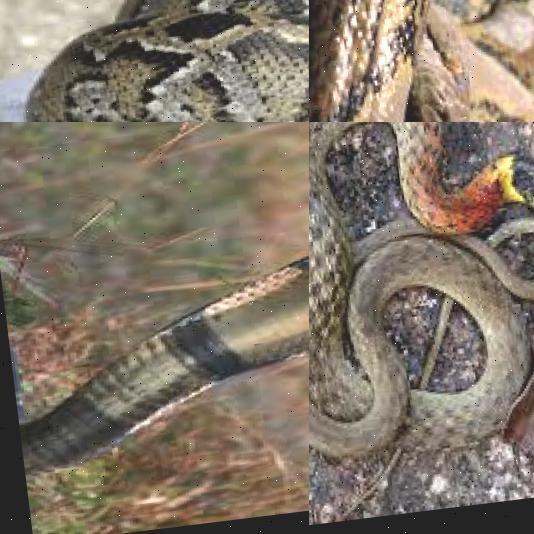snake: (0, 0, 309, 122)
